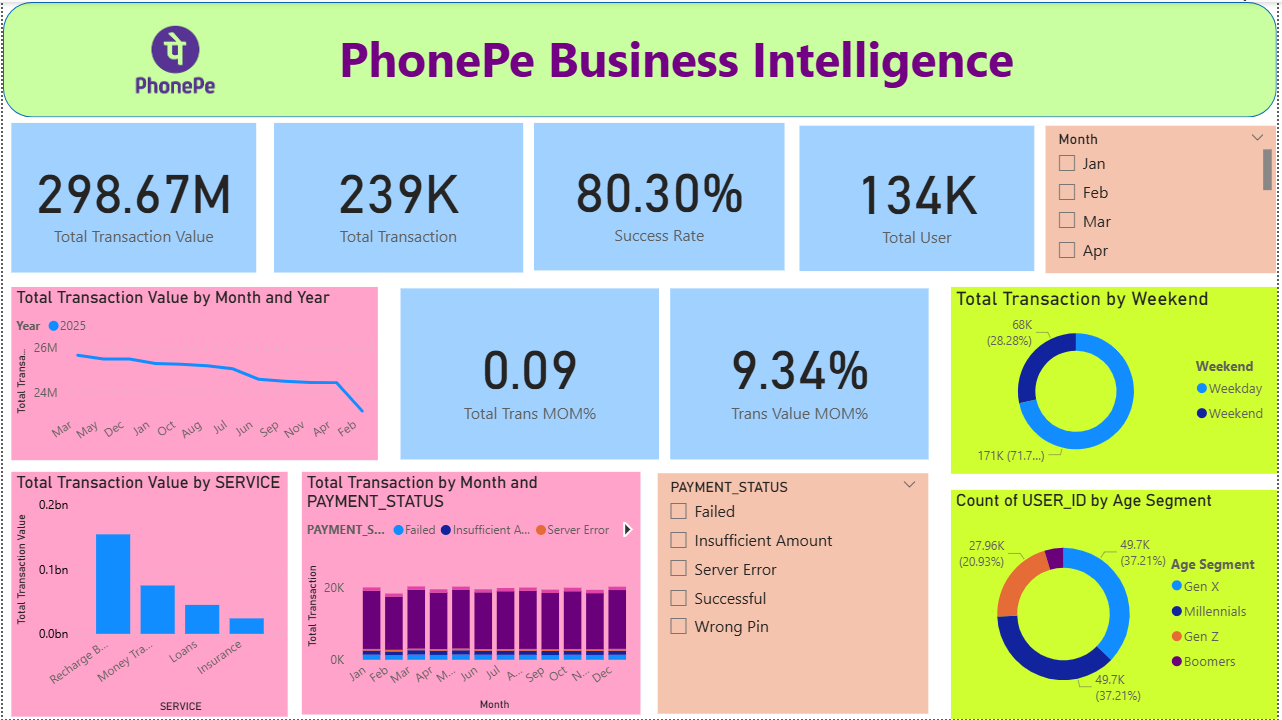

Layout of this report page (visuals, bound fields, positions):
{"tool":"powerbi","page":{"name":"Page 1","canvas":[1280,720],"ordinal":0},"visuals":[{"type":"card","fields":{"Values":["Measures (2).Total Transaction Value"]},"box":[8,122,246,150],"z":0},{"type":"card","fields":{"Values":["Measures (2).Total Transaction"]},"box":[272,122,250,150],"z":1000},{"type":"card","fields":{"Values":["Measures (2).Success Rate"]},"box":[534,122,252,148],"z":2000},{"type":"card","fields":{"Values":["Measures (2).Total User"]},"box":[800,124,236,146],"z":3000},{"type":"slicer","fields":{"Values":["Date_Table.Month"]},"box":[1048,124,232,148],"z":4000},{"type":"card","fields":{"Values":["Measures (2).Total Trans MOM%"]},"box":[400,288,260,172],"z":5000},{"type":"card","fields":{"Values":["Measures (2).Trans Value MOM%"]},"box":[670,288,260,172],"z":6000},{"type":"lineChart","fields":{"Category":["Date_Table.Month"],"Y":["Measures (2).Total Transaction Value"],"Series":["Date_Table.Year"]},"box":[8,286,368,174],"z":7000},{"type":"columnChart","fields":{"Category":["PhonePe_Filtered.SERVICE"],"Y":["Measures (2).Total Transaction Value"]},"box":[8,472,278,246],"z":8000},{"type":"columnChart","fields":{"Category":["Date_Table.Month"],"Y":["Measures (2).Total Transaction"],"Series":["PhonePe_Filtered.PAYMENT_STATUS"]},"box":[300,472,340,244],"z":9000},{"type":"donutChart","fields":{"Category":["user_id_updated_cleaned.Age Segment"],"Y":["CountNonNull(user_id_updated_cleaned.USER_ID)"]},"box":[952,490,328,230],"z":10000},{"type":"donutChart","fields":{"Category":["Date_Table.Weekend"],"Y":["Measures (2).Total Transaction"]},"box":[952,286,328,188],"z":11000},{"type":"slicer","fields":{"Values":["PhonePe_Filtered.PAYMENT_STATUS"]},"box":[658,474,272,242],"z":12000},{"type":"shape","box":[0,0,1280,116],"z":13000},{"type":"textbox","box":[332,18,766,80],"z":14000},{"type":"image","box":[74,0,198,116],"z":15000}]}

Visuals, with their boxes in screenshot pixels (x1, y1, x2, y2), scaled from the page's 1280x720 canvas onto the 1282x720 screenshot:
card - Measures (2).Total Transaction Value: 8/122/254/272
card - Measures (2).Total Transaction: 272/122/523/272
card - Measures (2).Success Rate: 535/122/787/270
card - Measures (2).Total User: 801/124/1038/270
slicer - Date_Table.Month: 1050/124/1281/272
card - Measures (2).Total Trans MOM%: 401/288/661/460
card - Measures (2).Trans Value MOM%: 671/288/931/460
lineChart - Date_Table.Month x Measures (2).Total Transaction Value: 8/286/377/460
columnChart - PhonePe_Filtered.SERVICE x Measures (2).Total Transaction Value: 8/472/286/718
columnChart - Date_Table.Month x Measures (2).Total Transaction: 300/472/641/716
donutChart - user_id_updated_cleaned.Age Segment x CountNonNull(user_id_updated_cleaned.USER_ID): 953/490/1281/719
donutChart - Date_Table.Weekend x Measures (2).Total Transaction: 953/286/1281/474
slicer - PhonePe_Filtered.PAYMENT_STATUS: 659/474/931/716
shape: 0/0/1281/116
textbox: 333/18/1100/98
image: 74/0/272/116
